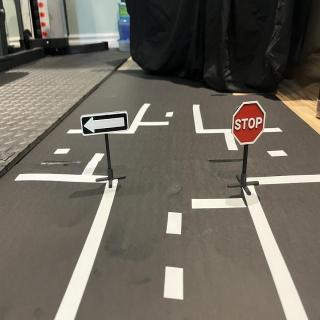sign_oneway_left: (82, 110, 131, 138)
sign_stop: (233, 103, 267, 145)
